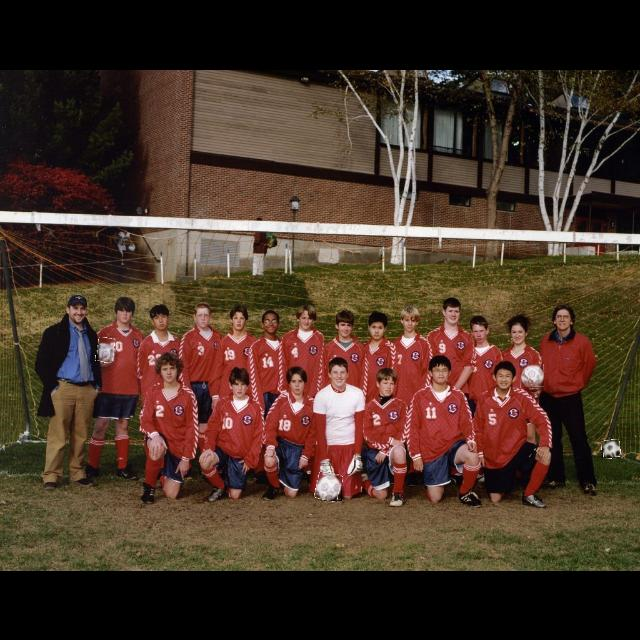Football: (316, 473, 342, 501), (520, 364, 544, 388), (96, 338, 114, 362), (602, 440, 620, 458)
